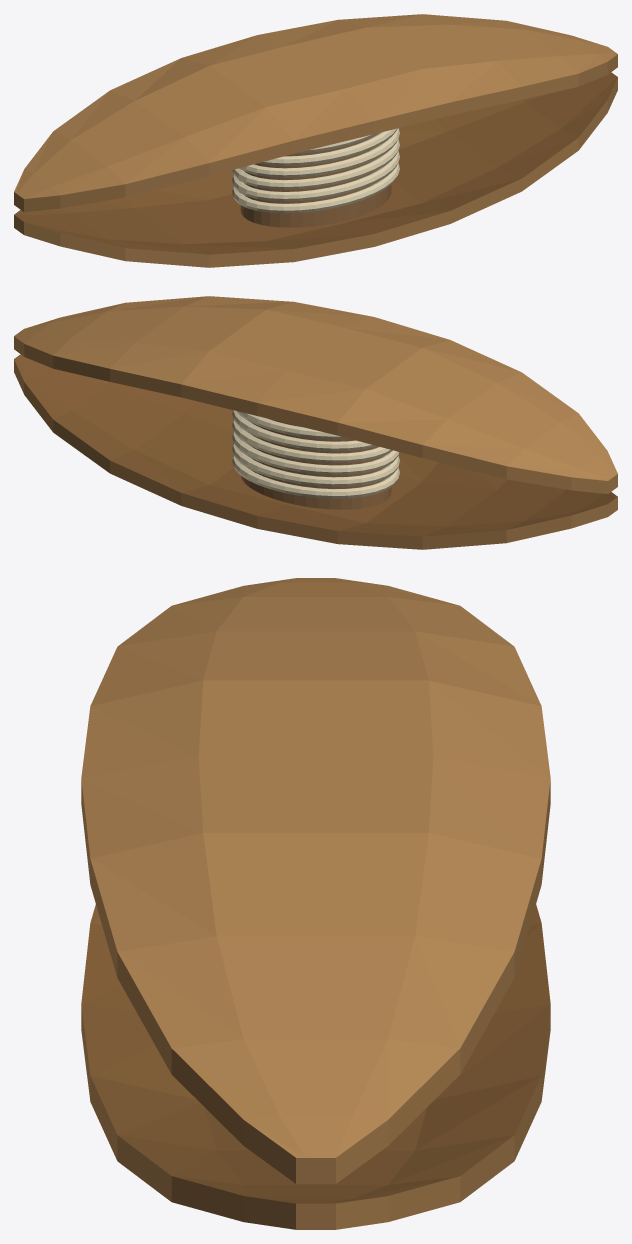
The picture shows the model from 3 angles, top to bottom: view 1: azimuth 30°, elevation 25°; view 2: azimuth 150°, elevation 25°; view 3: azimuth 270°, elevation 25°; orthographic projection. The views are drawn at different scales.
Parts seen in each view (by area): view 1: WholeUpperCurvedPointedLeaf, WholeLowerCurvedPointedLeaf, WholeContinuousEightTurnThreadWinding, WholeCentralJoiningPost; view 2: WholeUpperCurvedPointedLeaf, WholeLowerCurvedPointedLeaf, WholeContinuousEightTurnThreadWinding, WholeCentralJoiningPost; view 3: WholeUpperCurvedPointedLeaf, WholeLowerCurvedPointedLeaf.
Part boxes in pixels (bbox=[...]): WholeUpperCurvedPointedLeaf: bbox=[14, 14, 617, 211]; WholeLowerCurvedPointedLeaf: bbox=[14, 72, 617, 267]; WholeContinuousEightTurnThreadWinding: bbox=[232, 128, 399, 213]; WholeCentralJoiningPost: bbox=[240, 134, 391, 227]; WholeUpperCurvedPointedLeaf: bbox=[14, 296, 617, 493]; WholeLowerCurvedPointedLeaf: bbox=[14, 354, 617, 549]; WholeContinuousEightTurnThreadWinding: bbox=[232, 410, 399, 498]; WholeCentralJoiningPost: bbox=[241, 419, 391, 509]; WholeUpperCurvedPointedLeaf: bbox=[81, 578, 550, 1183]; WholeLowerCurvedPointedLeaf: bbox=[81, 904, 550, 1229].
Size of the model in its own units: 0.076 by 0.018 by 0.026.
